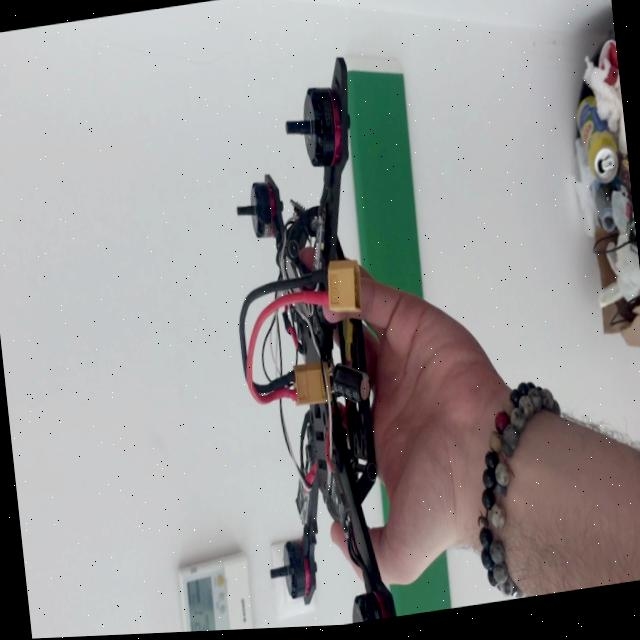drone: (184, 30, 450, 634)
